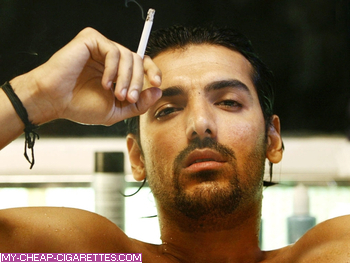cigarette: (134, 9, 156, 61)
